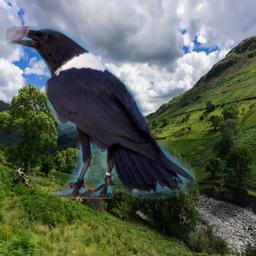Crow: (6, 26, 195, 199)
